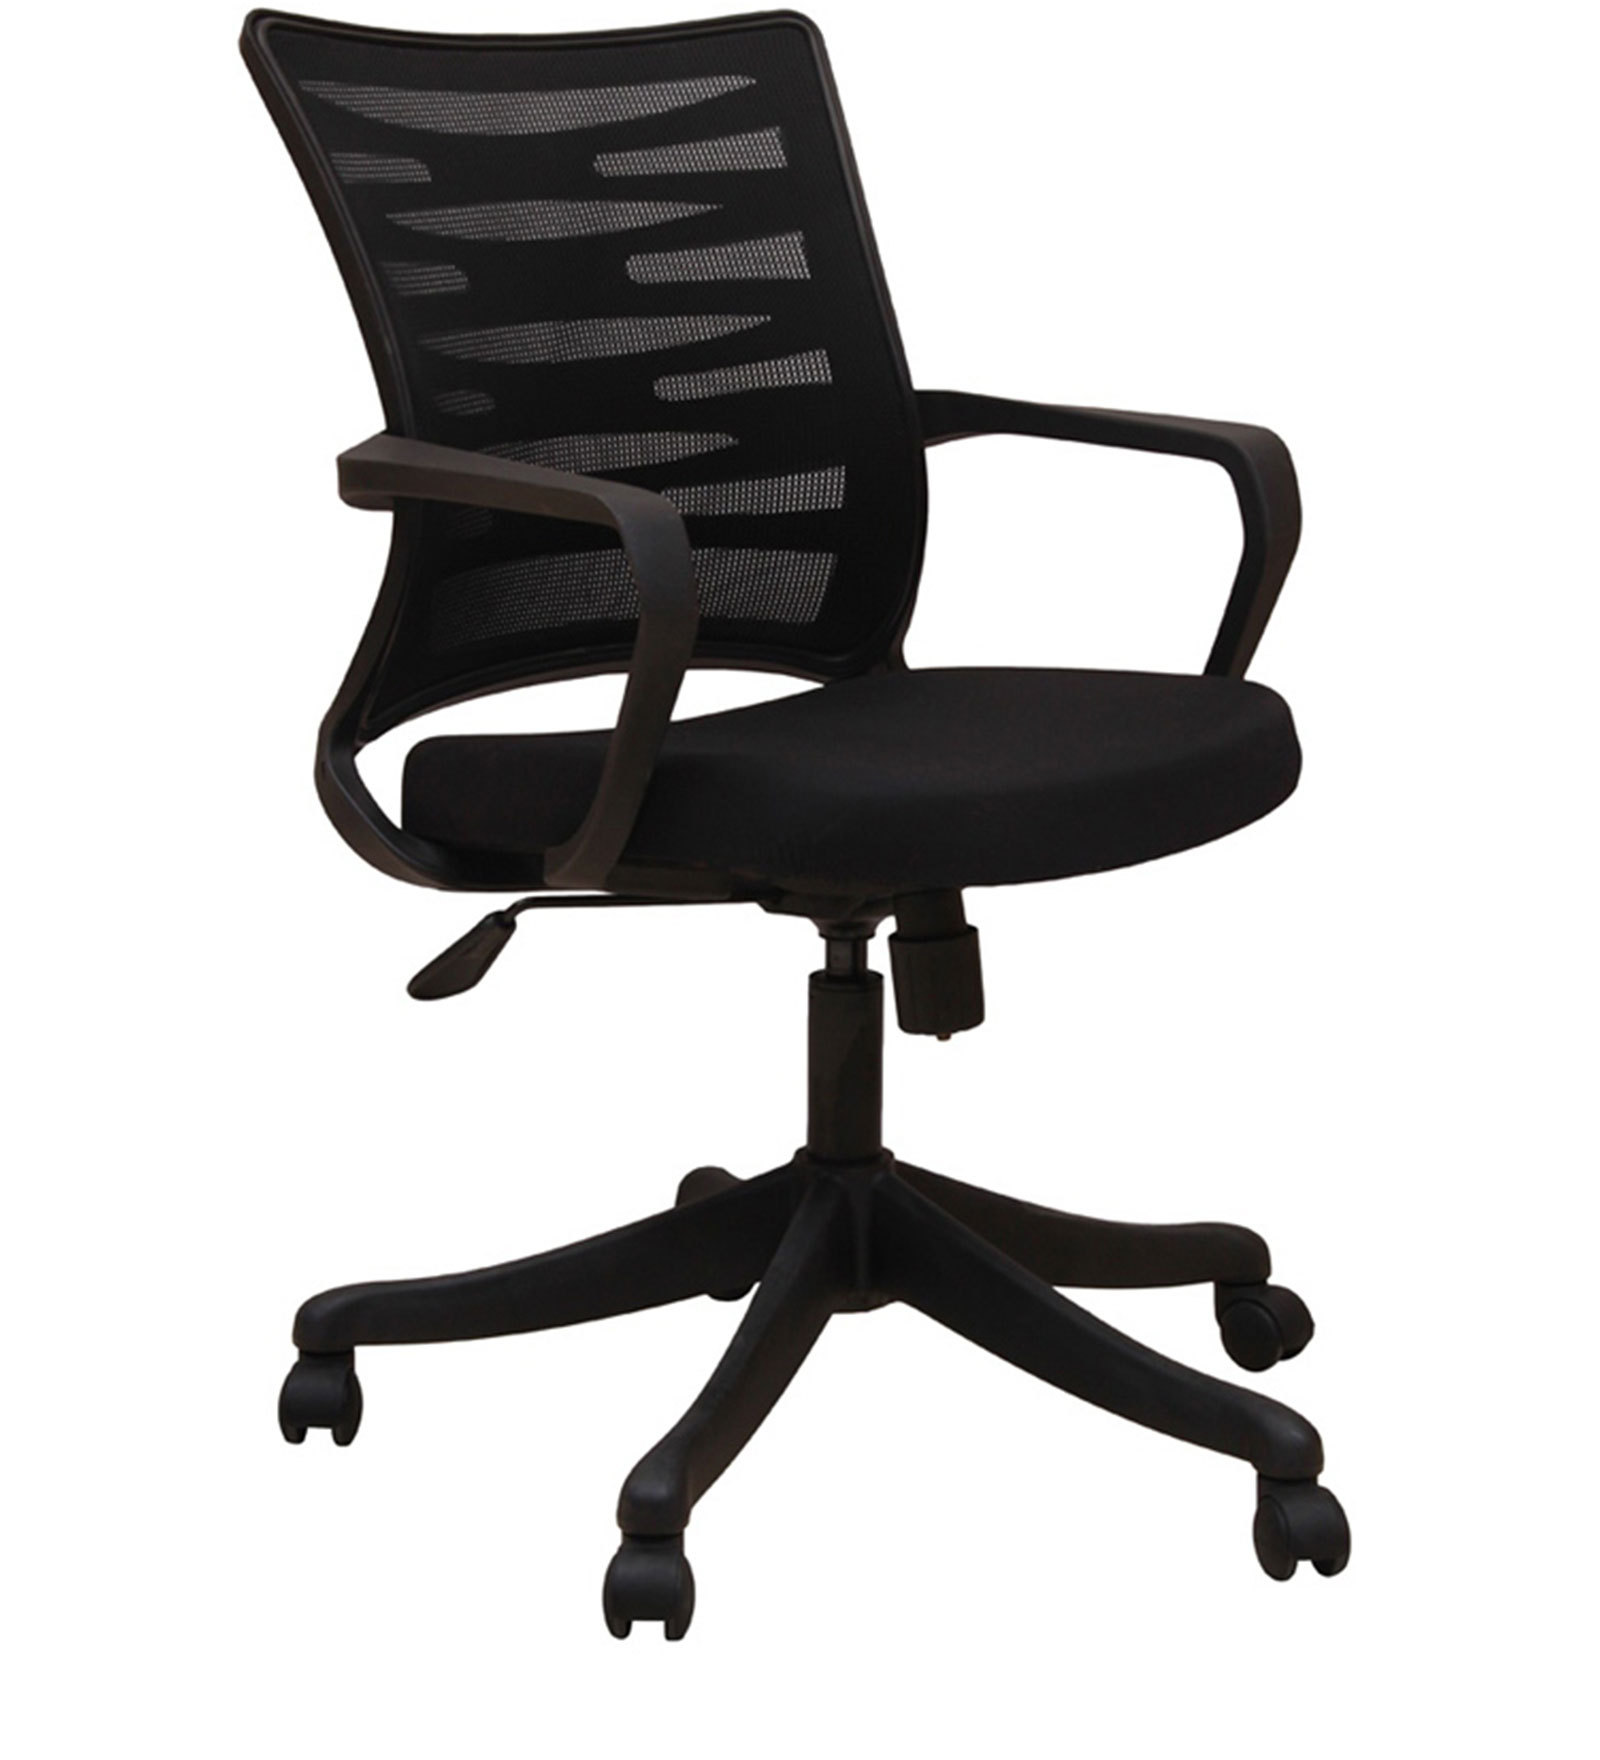Royal Mesh Ergonomic Chair in Black Colour by Adiko Systems: (182, 8, 1473, 1650)
